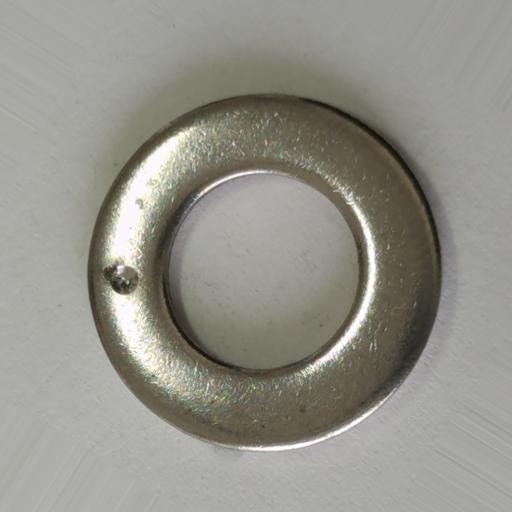circular_cavity: (103, 262, 140, 296)
